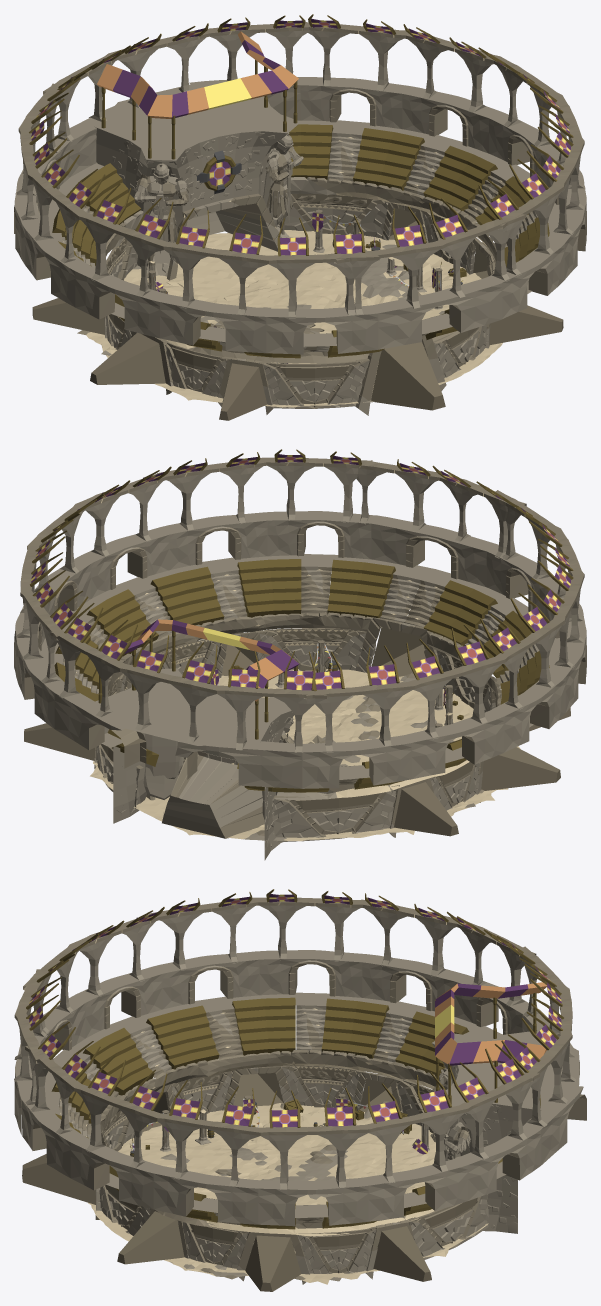
File: Colosseum.fbx
3 renders of one model, top to bottom at view 1: azimuth 30°, elevation 25°; view 2: azimuth 150°, elevation 25°; view 3: azimuth 270°, elevation 25°, orthographic.
Visible parts, largest first — view 1: pCubeShape82, pCube97, polySurface54, Floor, Barons_View, pPlane45, pPlane43, polySurface70, polySurface11, pPlane41, LowerWalls, polySurface55 (+18 smaller); view 2: pCubeShape82, pCube97, polySurface54, Barons_View, Floor, LowerWalls, polySurface70, pPlane43, polySurface49, polySurface55, pPlane45, polySurface10 (+18 smaller); view 3: pCube97, pCubeShape82, polySurface54, Floor, pPlane42, Barons_View, polySurface70, polySurface56, pPlane45, polySurface8Shape, polySurface48, polySurface6 (+15 smaller).
Boxes of the visible parts, bbox=[...] form: pCubeShape82: bbox=[15, 14, 585, 318]; pCube97: bbox=[14, 77, 586, 354]; polySurface54: bbox=[52, 124, 549, 358]; Floor: bbox=[77, 230, 502, 407]; Barons_View: bbox=[94, 82, 300, 277]; pPlane45: bbox=[97, 31, 298, 159]; pPlane43: bbox=[32, 298, 267, 420]; polySurface70: bbox=[39, 120, 559, 346]; polySurface11: bbox=[259, 358, 369, 408]; pPlane41: bbox=[371, 342, 445, 410]; LowerWalls: bbox=[167, 193, 281, 280]; polySurface55: bbox=[290, 177, 496, 347]; pCubeShape82: bbox=[17, 449, 584, 752]; pCube97: bbox=[14, 511, 586, 788]; polySurface54: bbox=[54, 559, 549, 792]; Barons_View: bbox=[94, 668, 294, 860]; Floor: bbox=[90, 669, 520, 841]; LowerWalls: bbox=[162, 751, 264, 838]; polySurface70: bbox=[41, 554, 560, 779]; pPlane43: bbox=[394, 690, 570, 836]; polySurface49: bbox=[273, 785, 399, 842]; polySurface55: bbox=[108, 612, 373, 690]; pPlane45: bbox=[98, 619, 298, 739]; polySurface10: bbox=[255, 628, 366, 670]; pCube97: bbox=[14, 950, 586, 1226]; pCubeShape82: bbox=[14, 889, 575, 1189]; polySurface54: bbox=[51, 997, 502, 1229]; Floor: bbox=[88, 1103, 488, 1284]; pPlane42: bbox=[117, 1211, 431, 1291]; Barons_View: bbox=[432, 1030, 579, 1233]; polySurface70: bbox=[44, 992, 506, 1217]; polySurface56: bbox=[100, 1049, 436, 1131]; pPlane45: bbox=[435, 982, 547, 1107]; polySurface8Shape: bbox=[170, 1065, 364, 1114]; polySurface48: bbox=[407, 1194, 488, 1259]; polySurface6: bbox=[297, 1226, 379, 1273].
Bounding box in the file's own units: 126 × 52.23 × 127.
